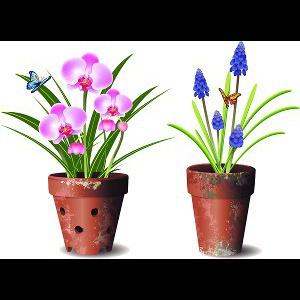flowerpot: (184, 161, 258, 257), (47, 171, 129, 257)
